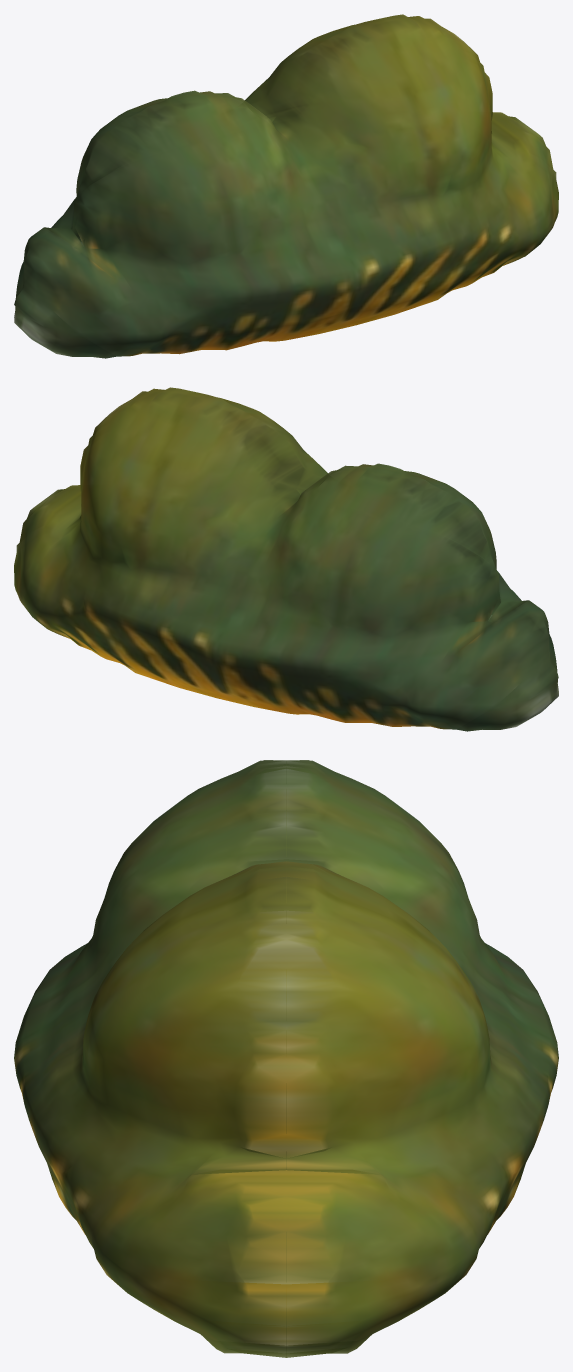
File: 01_rocks_and_bushes_r02_c07.glb
The picture shows the model from 3 angles, top to bottom: view 1: azimuth 30°, elevation 25°; view 2: azimuth 150°, elevation 25°; view 3: azimuth 270°, elevation 25°; orthographic projection. The views are drawn at different scales.
Visible parts, largest first — view 1: 01_rocks_and_bushes_r02_c07; view 2: 01_rocks_and_bushes_r02_c07; view 3: 01_rocks_and_bushes_r02_c07.
Part boxes in pixels (x1=…): 01_rocks_and_bushes_r02_c07: x1=14, y1=14, x2=558, y2=358; 01_rocks_and_bushes_r02_c07: x1=14, y1=387, x2=558, y2=731; 01_rocks_and_bushes_r02_c07: x1=14, y1=760, x2=558, y2=1357.
Size of the model in its own units: 1.79 by 0.8305 by 1.04.
Materials: 1 (1 with a texture image).
